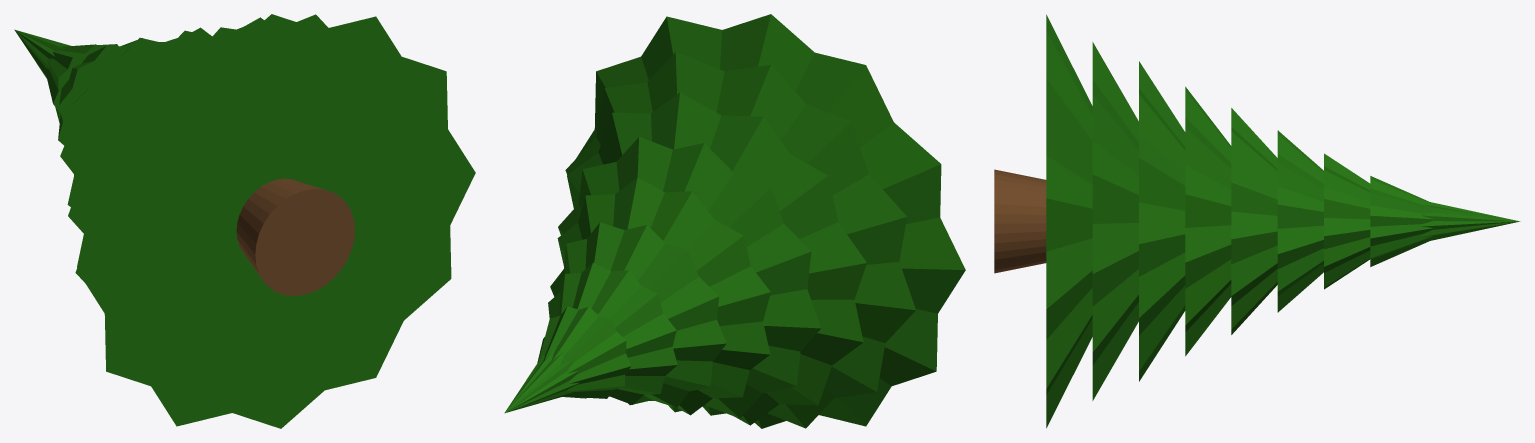
Rendered from christmas_tree_small.glb.
3 views of the same model, side by side, from view 1: azimuth 30°, elevation 25°; view 2: azimuth 150°, elevation 25°; view 3: azimuth 270°, elevation 25° (orthographic). The views are drawn at different scales.
Parts seen in each view (by area): view 1: Cube; view 2: Cube; view 3: Cube.
Part boxes in pixels (x1,y1,x2,y2): Cube: [14, 14, 475, 428]; Cube: [504, 14, 965, 428]; Cube: [994, 14, 1520, 428].
Size of the model in its own units: 0.1569 by 0.1569 by 0.1984.
